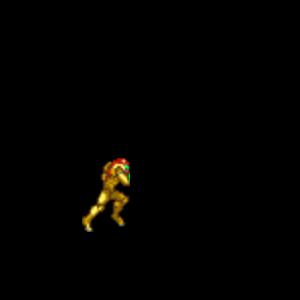Collectible: (82, 158, 130, 232)
